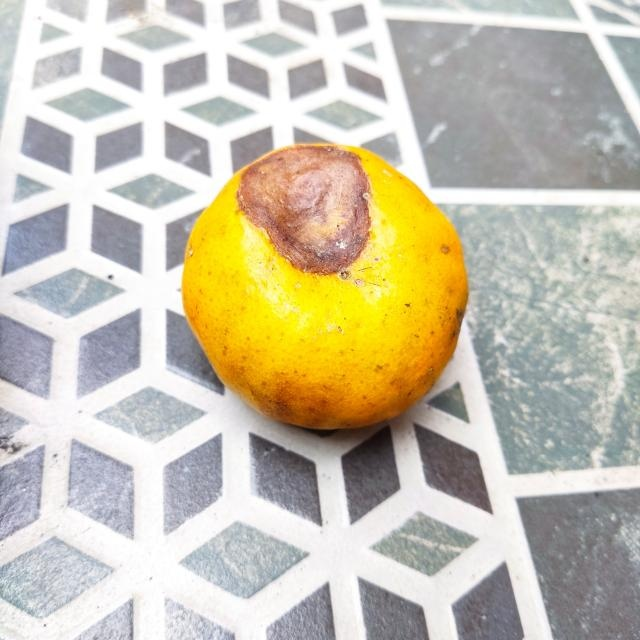agrume: (181, 142, 468, 429)
